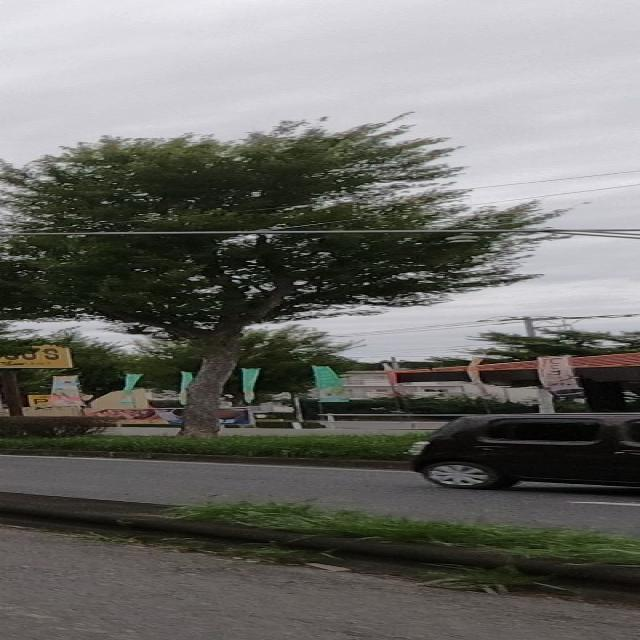maple: (0, 111, 593, 441)
